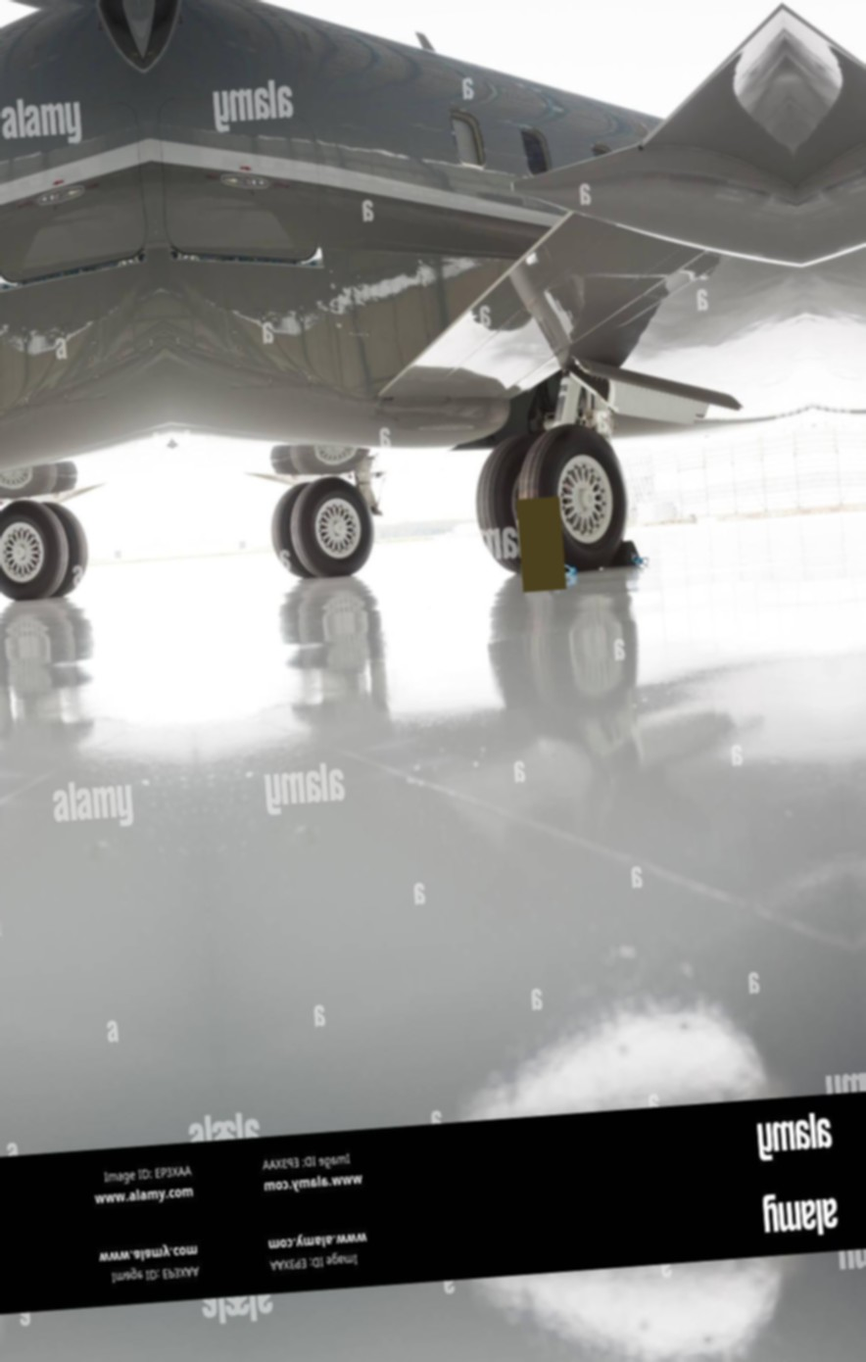chock: (513, 541, 574, 584), (593, 532, 646, 569)
wheel: (518, 420, 635, 572), (271, 473, 378, 581), (472, 435, 554, 575), (0, 495, 87, 603), (33, 499, 90, 595), (268, 481, 325, 577)
